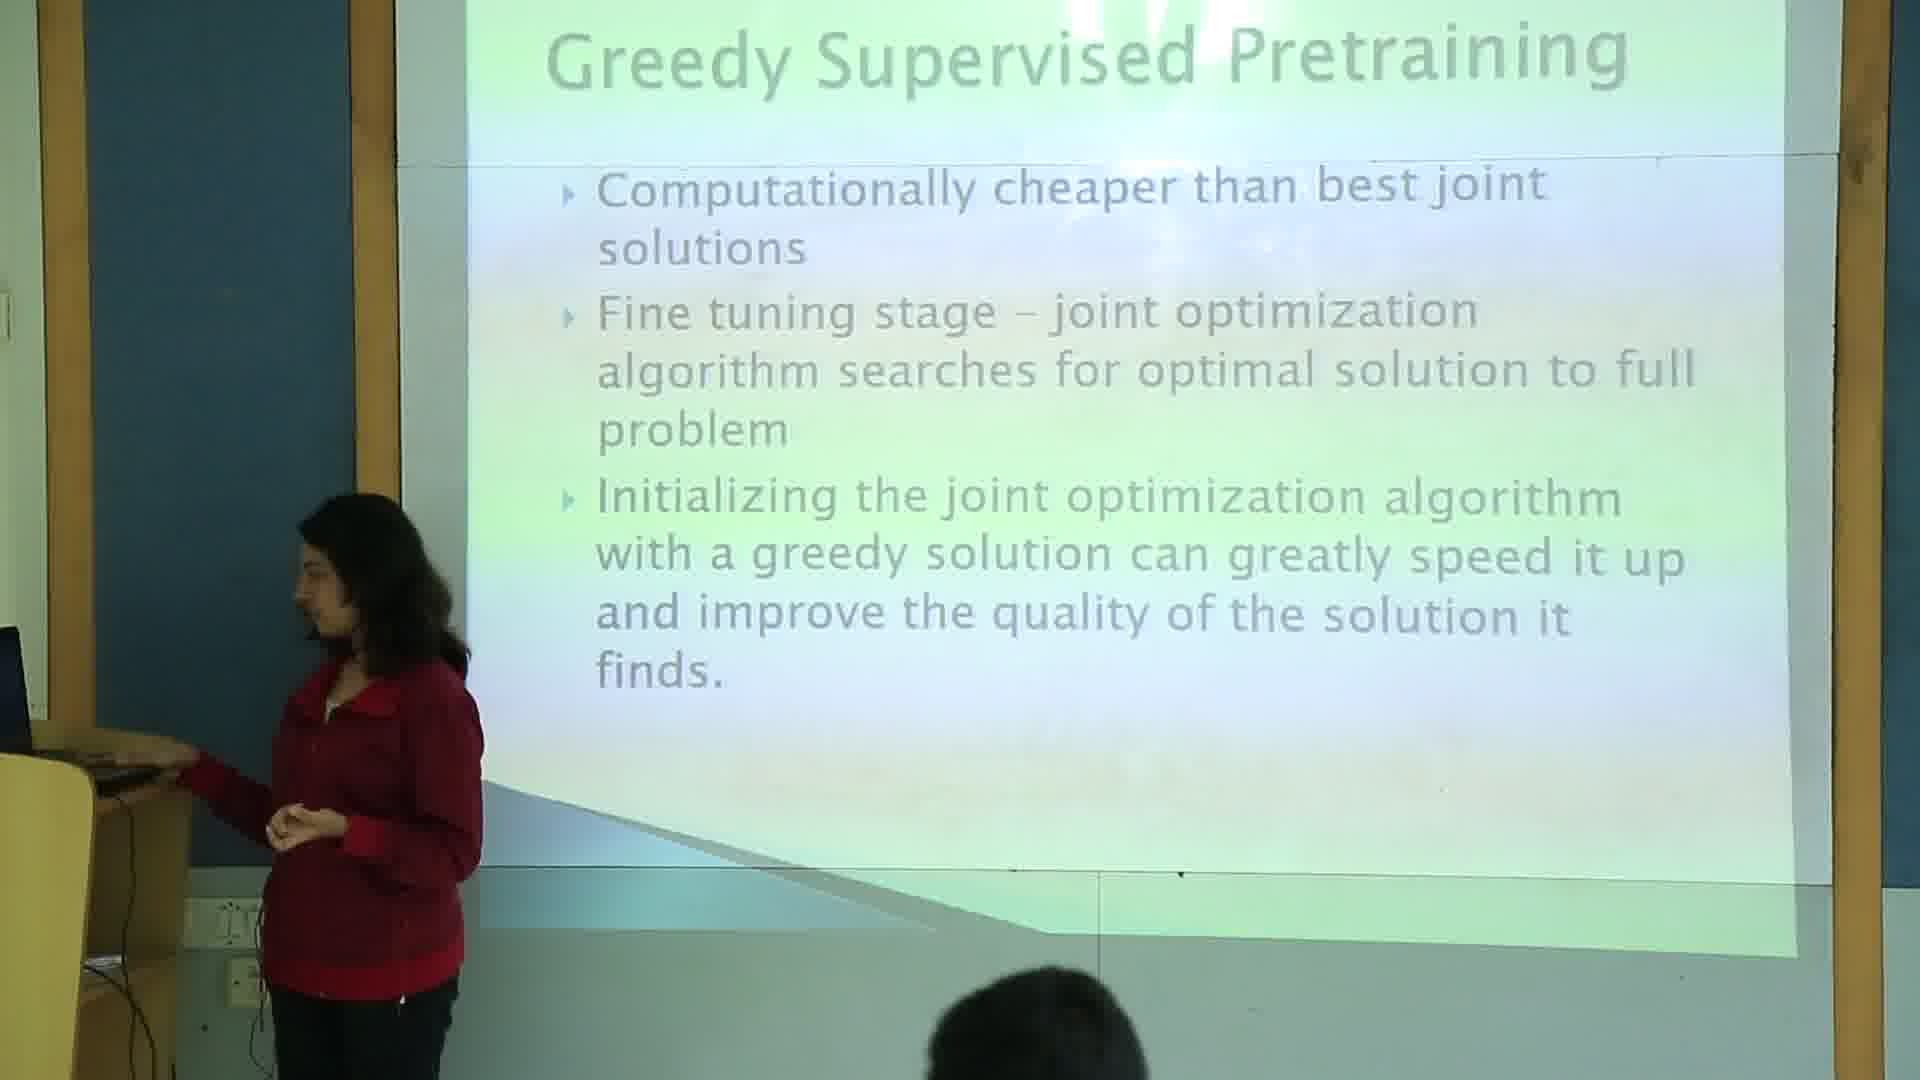slide: (464, 3, 1797, 955)
